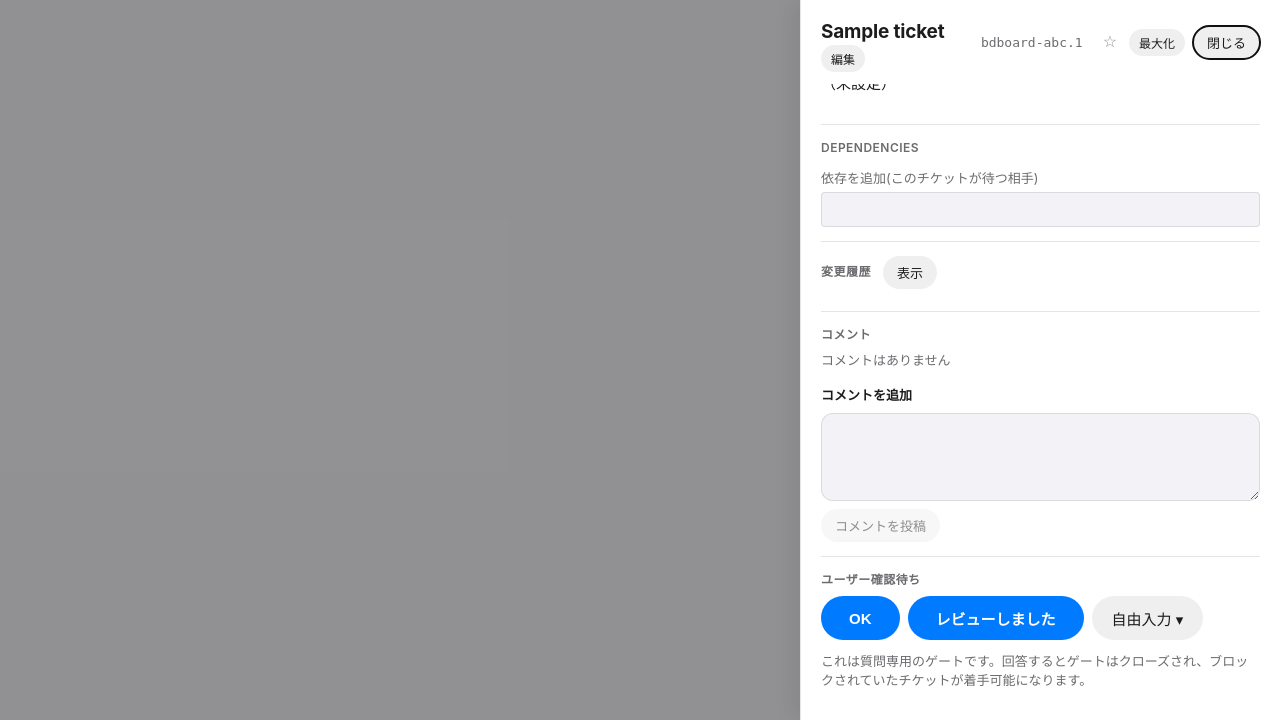
Test: TicketDetailPanel pending decisions › shows sibling human-label notices for gate decisions alongside the gate outcome
(page scrolled)
Click the button "自由入力 ▾" at (1147, 618), box [1092,596,1203,640]
(page scrolled)
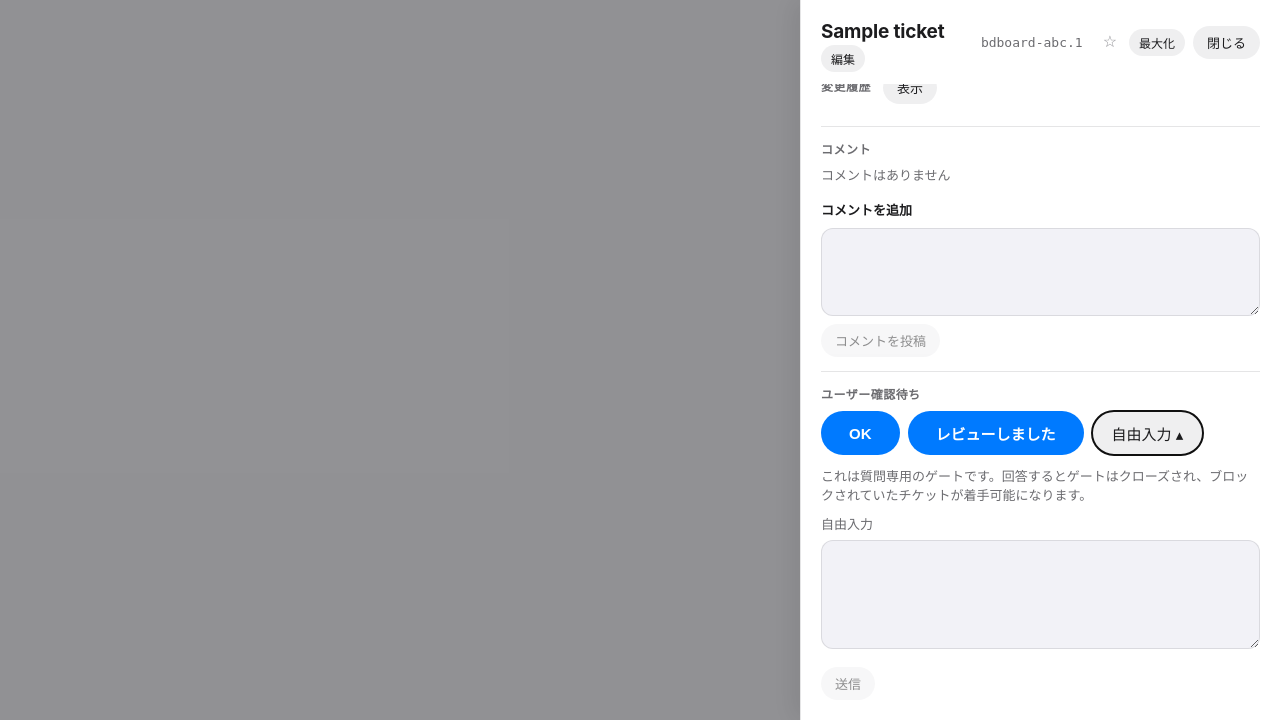
Type "ゲート回答" into the text box labelled "自由入力" at (1040, 594), box [821,540,1260,649]
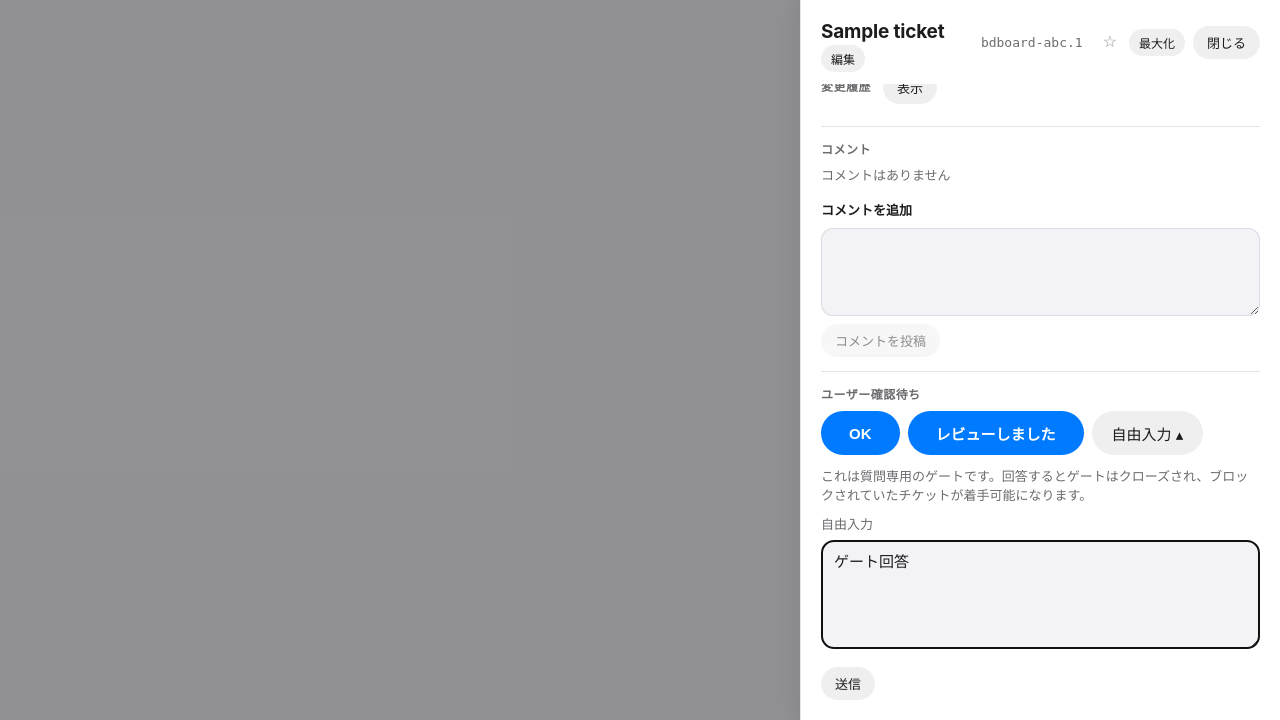
Click the button "送信" at (848, 684), box [821,667,875,700]
(page scrolled)
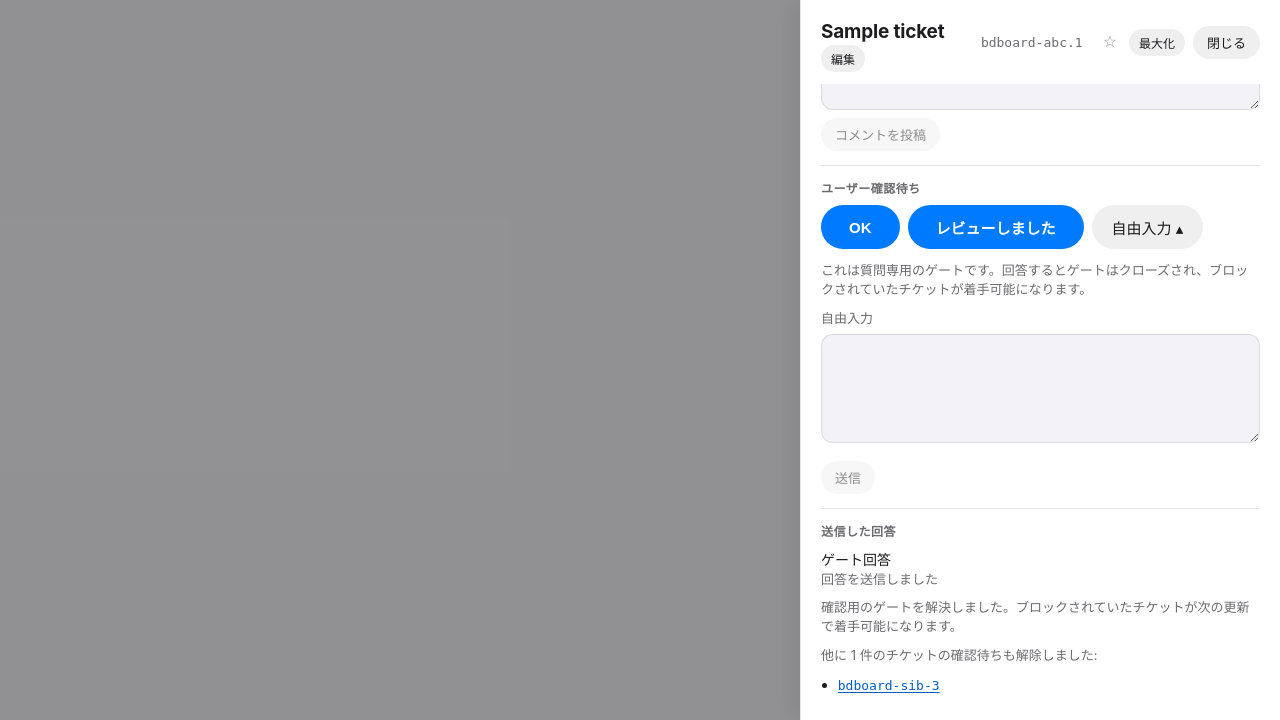
Expected: the text "他に 1 件のチケットの確認待ちも解除しました:" is shown, [821,647,1097,663]
Expected: the button "bdboard-sib-3" is shown, [838,676,940,695]
Expected: the text "確認用のゲートを解決しました。ブロックされていたチケットが次の更新で着手可能になります。" is shown, [821,598,1260,636]
